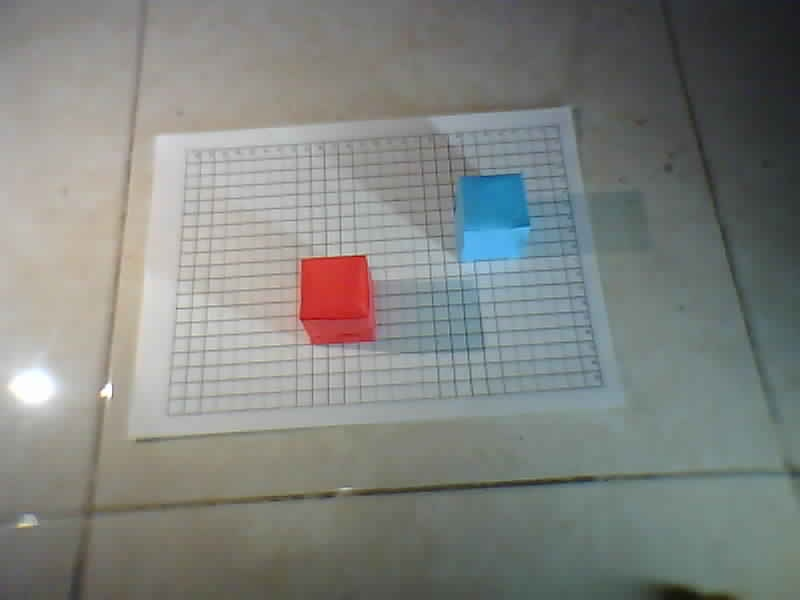LB: (165, 412, 173, 418)
LT: (183, 147, 191, 153)
RB: (599, 383, 607, 389)
RT: (555, 122, 563, 128)
